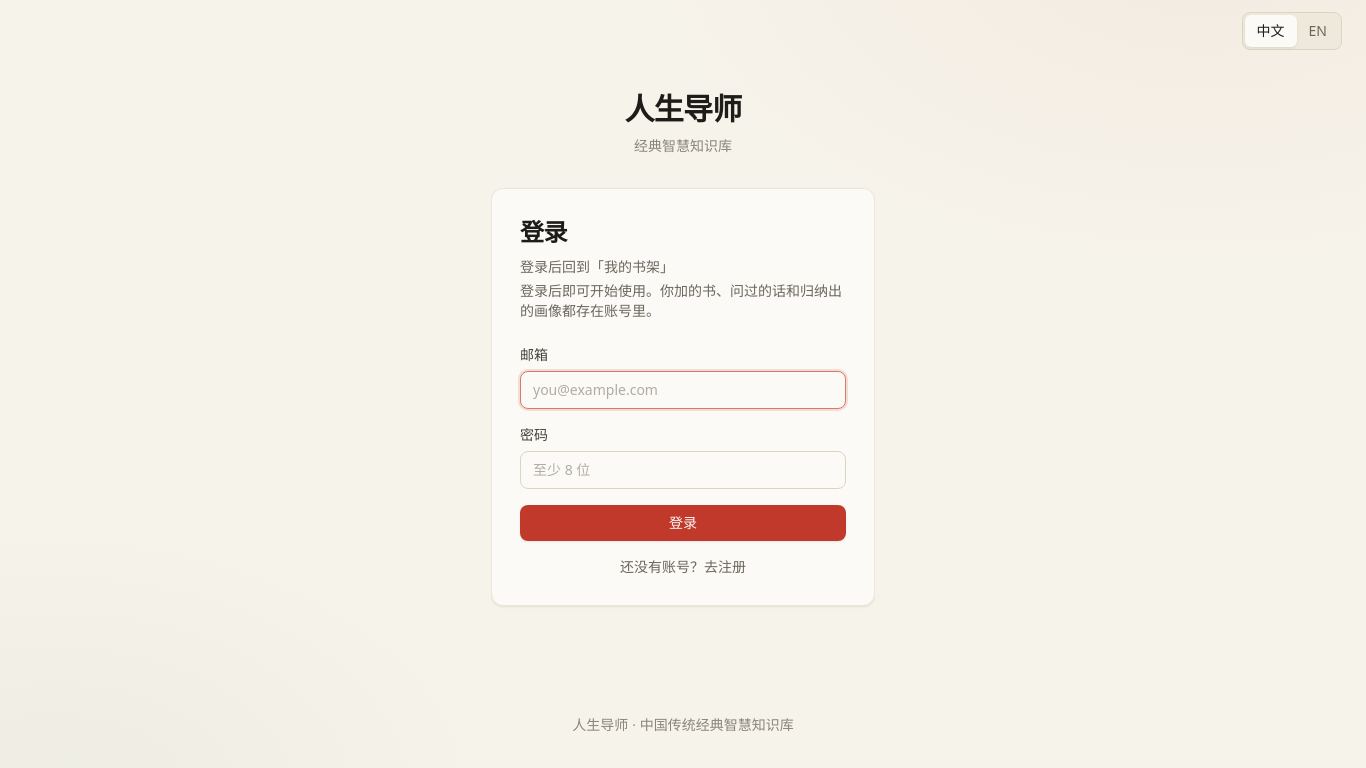
Test case: 登录完成后回到原来那一页 › 登完回到被拦下那页
Type "alice@example.com" into the field labelled "邮箱". click: (683, 390)
box: top-left (520, 371), bottom-right (846, 409)
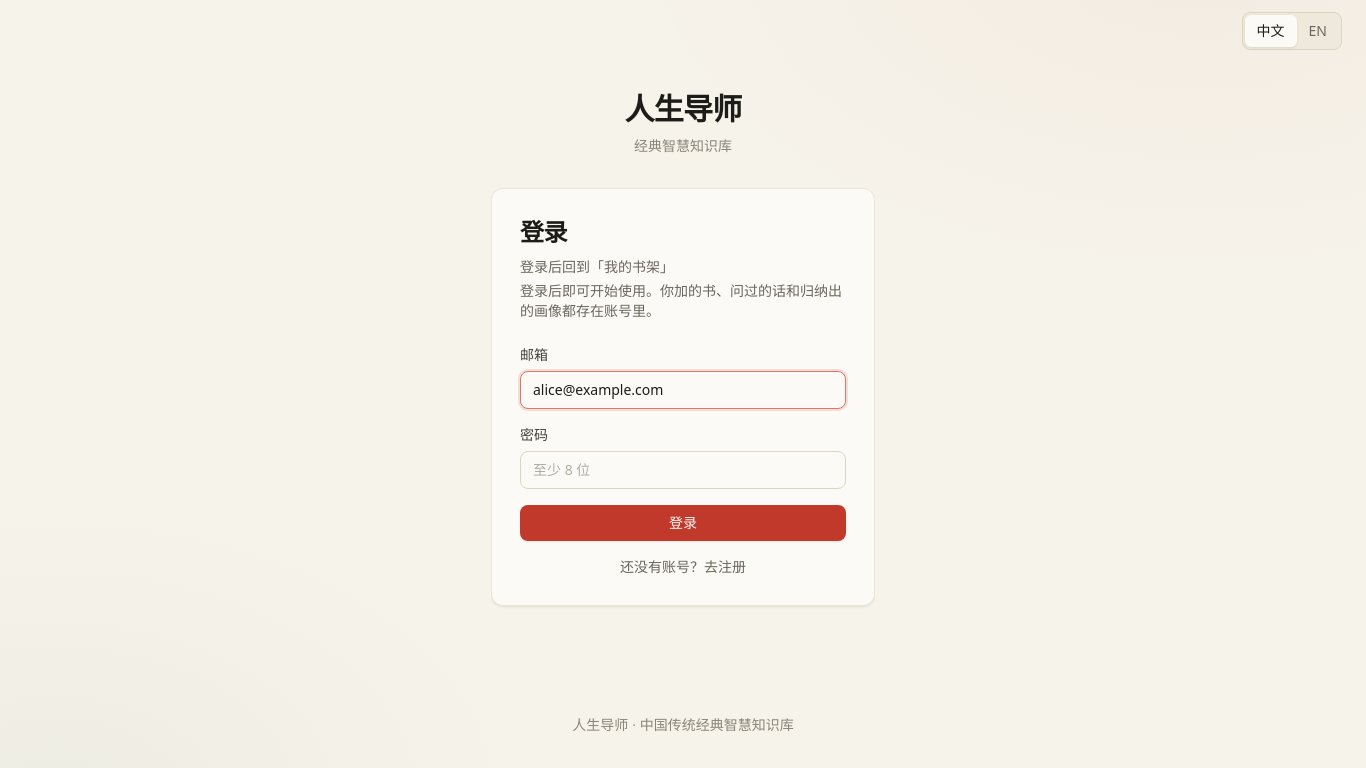
Type "goodpass123" into the password field labelled "密码". click: (683, 470)
box: top-left (520, 451), bottom-right (846, 489)
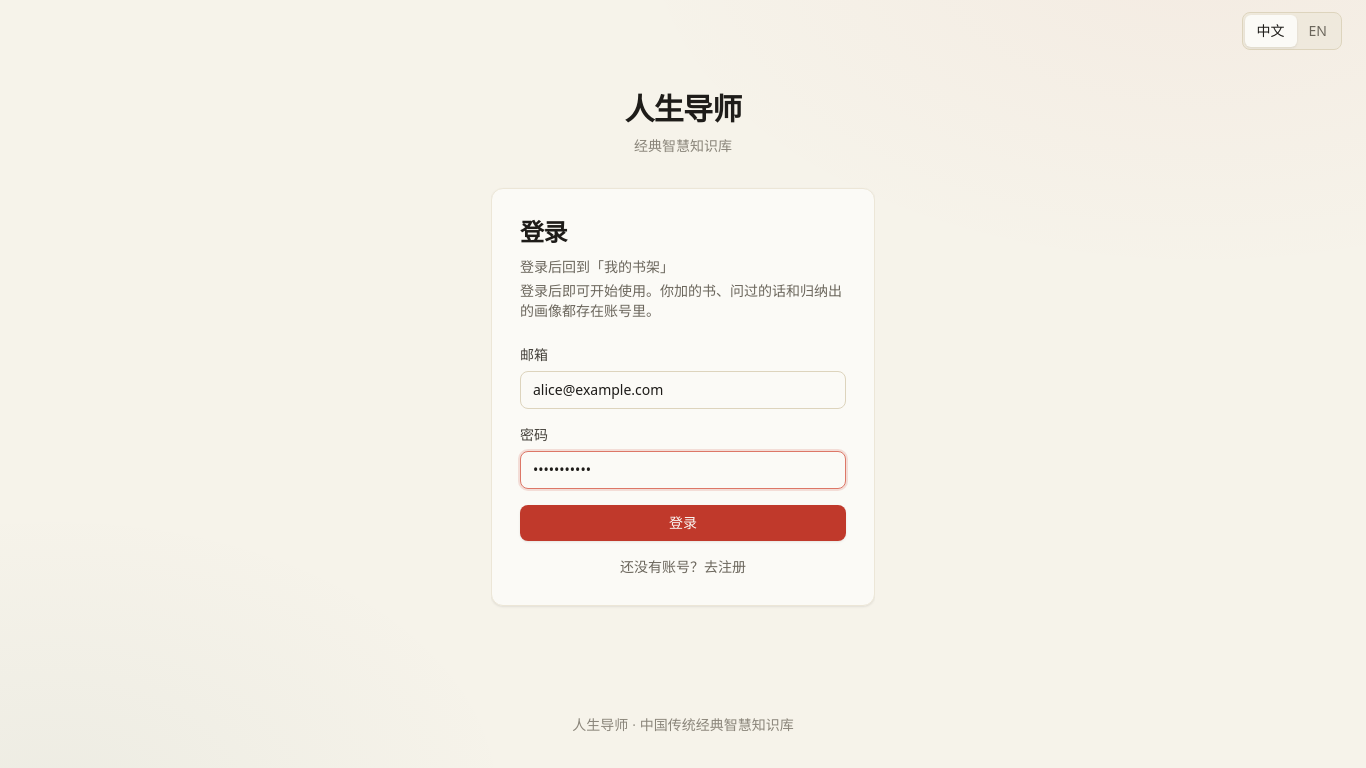
Click the button "登录". click: (683, 523)
box: top-left (520, 505), bottom-right (846, 541)
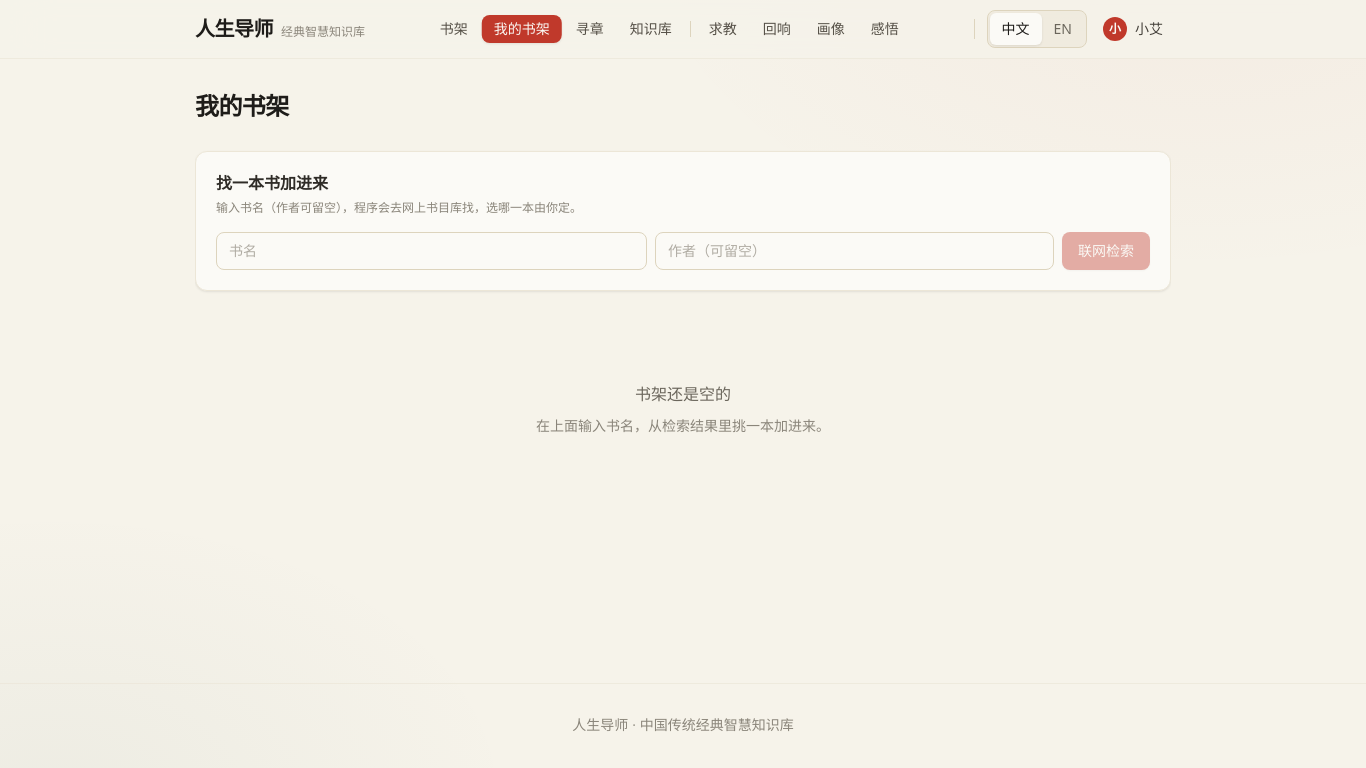
Now the label labelled "邮箱" is gone
